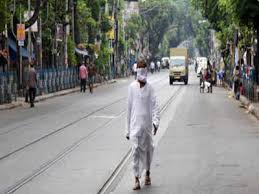mask: (134, 59, 150, 84)
